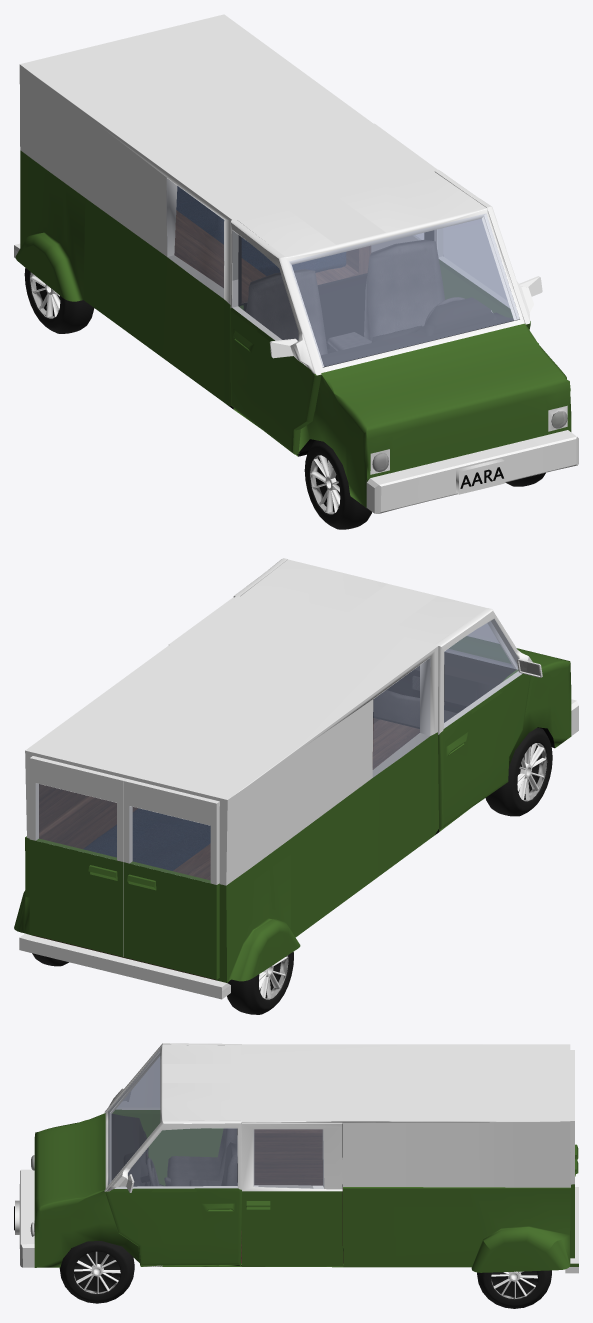
The model's file is Van 1.fbx.
3 views of the same model, one above another, from view 1: azimuth 30°, elevation 25°; view 2: azimuth 150°, elevation 25°; view 3: azimuth 270°, elevation 25° (orthographic). The views are drawn at different scales.
Visible parts, largest first — view 1: Body, RightDoor, LeftDoor, Wheel_FL, Metris, Wheel_BL; view 2: Body, Right_door_behind, Left_door_behind, RightDoor, Metris, Wheel_FL, Wheel_BL; view 3: Body, LeftDoor, Side_Door, RightDoor, Wheel_FR, Wheel_BR, Left_door_behind.
Boxes of the visible parts, x1=… form: Body: x1=14, y1=14, x2=578, y2=513; RightDoor: x1=230, y1=219, x2=321, y2=454; LeftDoor: x1=434, y1=169, x2=542, y2=329; Wheel_FL: x1=304, y1=440, x2=371, y2=529; Metris: x1=176, y1=186, x2=346, y2=275; Wheel_BL: x1=24, y1=268, x2=94, y2=333; Body: x1=14, y1=559, x2=578, y2=999; Right_door_behind: x1=123, y1=778, x2=219, y2=979; Left_door_behind: x1=29, y1=756, x2=125, y2=956; RightDoor: x1=435, y1=608, x2=542, y2=828; Metris: x1=83, y1=808, x2=210, y2=870; Wheel_FL: x1=485, y1=728, x2=552, y2=816; Wheel_BL: x1=227, y1=952, x2=293, y2=1014; Body: x1=14, y1=1044, x2=578, y2=1273; LeftDoor: x1=104, y1=1120, x2=241, y2=1265; Side_Door: x1=242, y1=1122, x2=342, y2=1266; RightDoor: x1=104, y1=1043, x2=241, y2=1185; Wheel_FR: x1=59, y1=1241, x2=134, y2=1303; Wheel_BR: x1=477, y1=1270, x2=551, y2=1308; Left_door_behind: x1=570, y1=1085, x2=578, y2=1258.
Size of the model in its own units: 0.0353 by 0.03 by 0.0829.
Materials: 11 (4 with a texture image).
